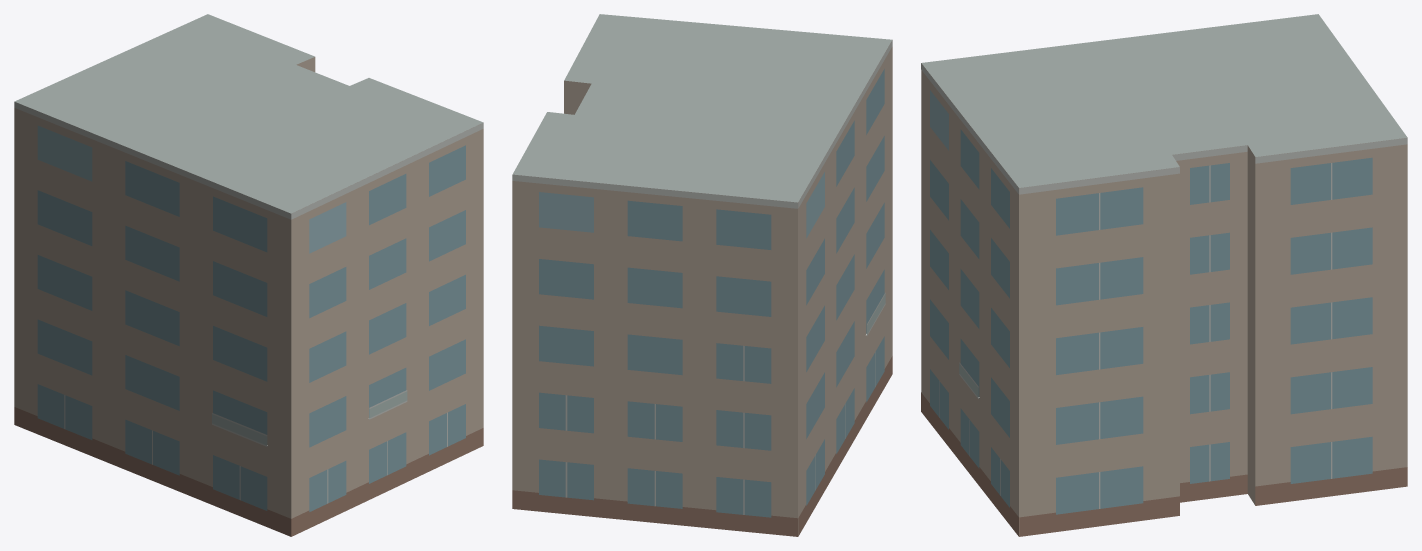
File: survey-upis-32676001.glb
3 renders of one model, left to right at view 1: azimuth 30°, elevation 25°; view 2: azimuth 150°, elevation 25°; view 3: azimuth 270°, elevation 25°, orthographic. The views are drawn at different scales.
Visible parts, largest first — view 1: survey-upis-32676001.tmp; view 2: survey-upis-32676001.tmp; view 3: survey-upis-32676001.tmp.
Boxes of the visible parts, <box> form: survey-upis-32676001.tmp: <box>14,14,483,536</box>; survey-upis-32676001.tmp: <box>512,14,892,536</box>; survey-upis-32676001.tmp: <box>921,14,1407,536</box>.
Bounding box in the file's own units: 13.82 × 12.9 × 16.32.
